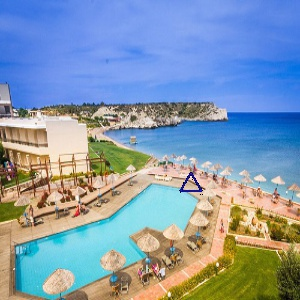triangle: (176, 170, 204, 194)
